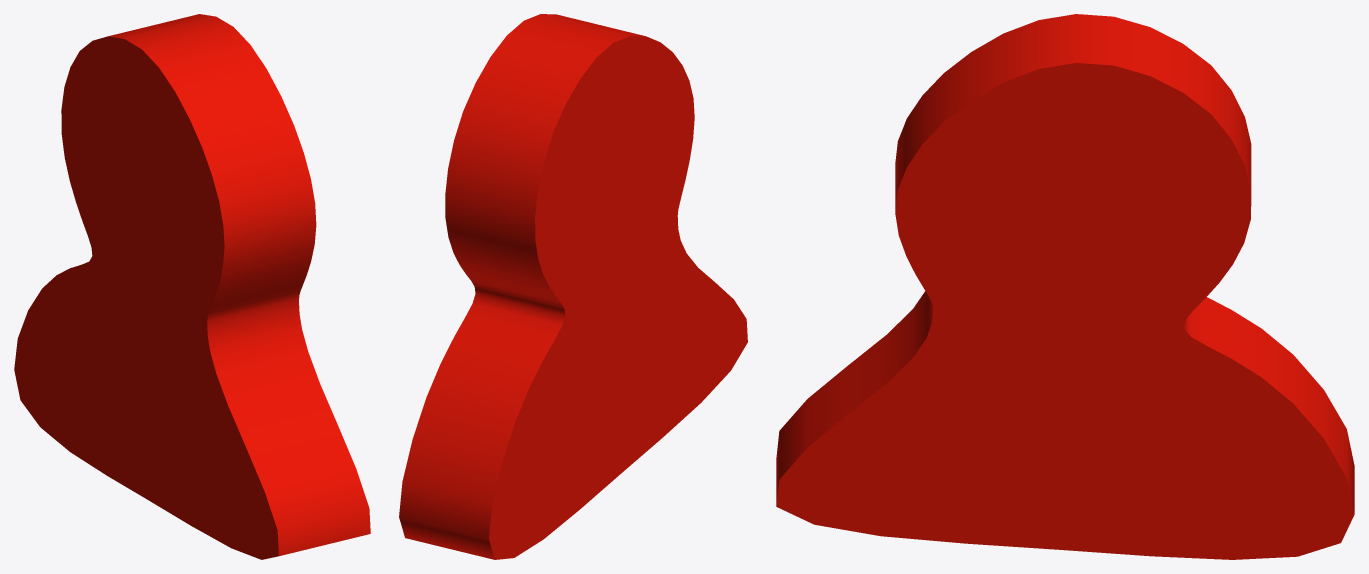
File: head2.fbx
The picture shows the model from 3 angles, left to right: view 1: azimuth 30°, elevation 25°; view 2: azimuth 150°, elevation 25°; view 3: azimuth 270°, elevation 25°; orthographic projection. The views are drawn at different scales.
Parts seen in each view (by area): view 1: head2; view 2: head2; view 3: head2.
Part boxes in pixels (x1,y1,x2,y2): head2: [14, 14, 370, 559]; head2: [399, 14, 747, 559]; head2: [776, 14, 1354, 559].
Size of the model in its own units: 14.43 by 68.38 by 72.08.
